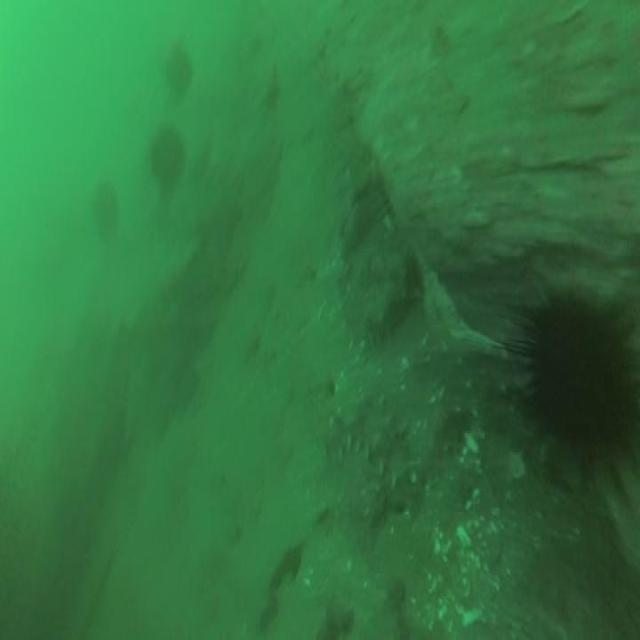echinus: (521, 280, 640, 466), (146, 119, 188, 194), (156, 41, 200, 103)
holothurian: (326, 382, 414, 506)
